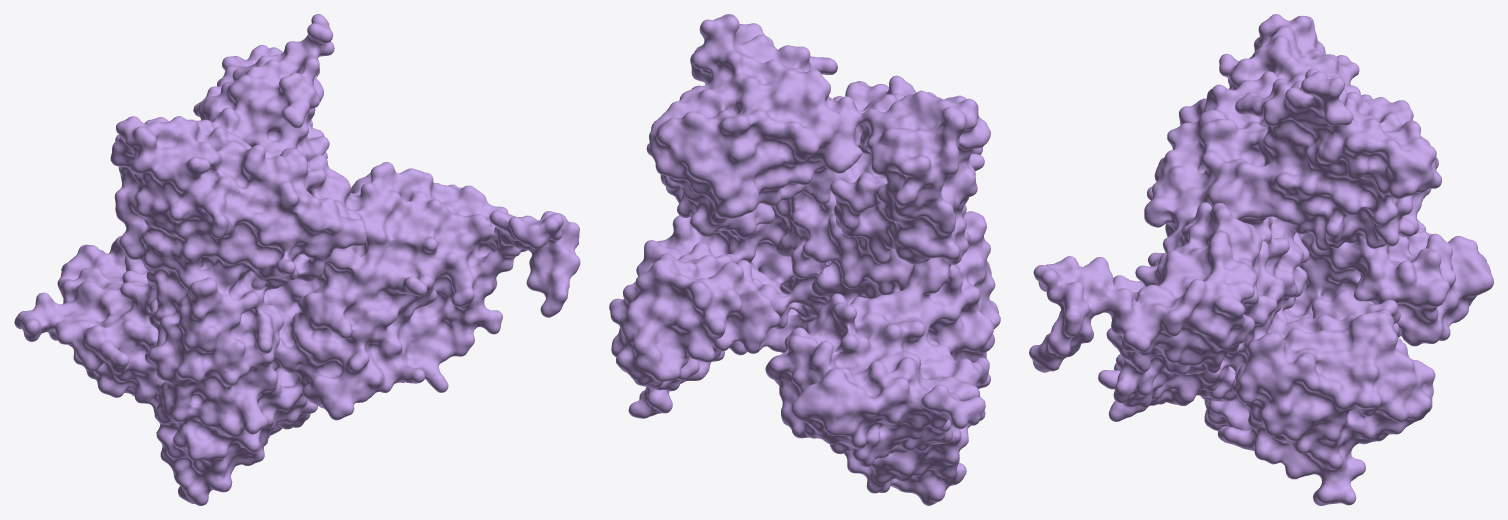
The picture shows the model from 3 angles, left to right: view 1: azimuth 30°, elevation 25°; view 2: azimuth 150°, elevation 25°; view 3: azimuth 270°, elevation 25°; orthographic projection. The views are drawn at different scales.
Parts seen in each view (by area): view 1: Shape_IndexedFaceSet; view 2: Shape_IndexedFaceSet; view 3: Shape_IndexedFaceSet.
Boxes of the visible parts, <box> form: Shape_IndexedFaceSet: <box>14,14,580,505</box>; Shape_IndexedFaceSet: <box>609,14,1000,505</box>; Shape_IndexedFaceSet: <box>1029,14,1493,505</box>.
Bounding box in the file's own units: 98.36 × 97.27 × 89.87.
